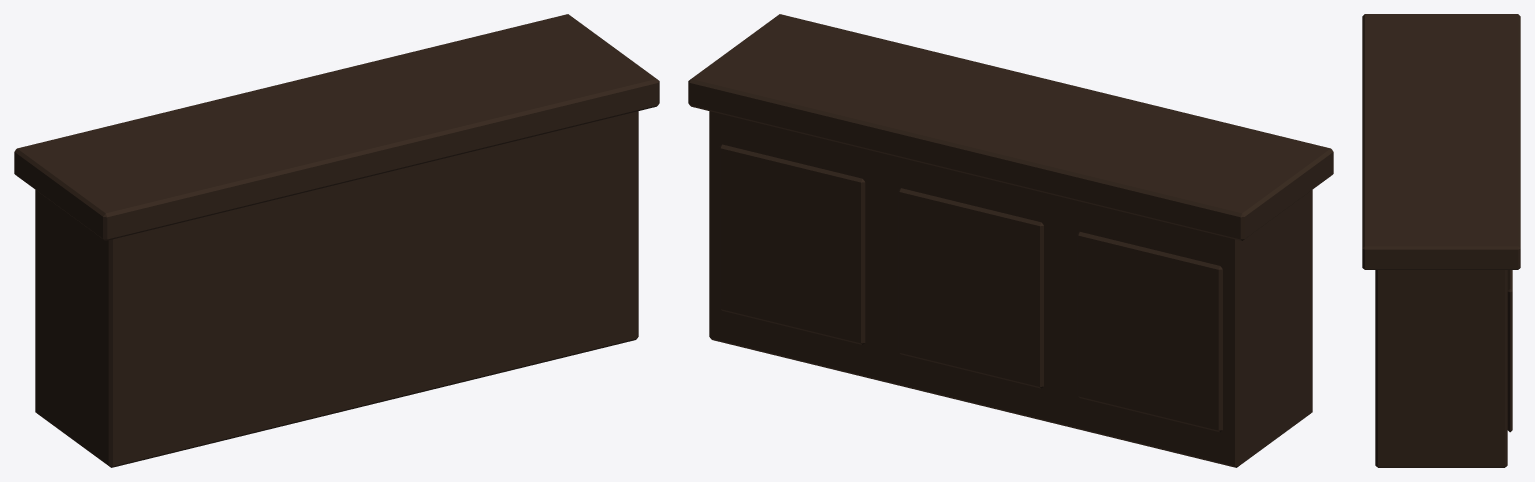
The model's file is counter.fbx.
The picture shows the model from 3 angles, left to right: view 1: azimuth 30°, elevation 25°; view 2: azimuth 150°, elevation 25°; view 3: azimuth 270°, elevation 25°; orthographic projection. The views are drawn at different scales.
Visible parts, largest first — view 1: counter; view 2: counter; view 3: counter.
Part boxes in pixels (x1=…): counter: x1=14, y1=14, x2=659, y2=467; counter: x1=688, y1=14, x2=1333, y2=467; counter: x1=1362, y1=14, x2=1520, y2=467.
Bounding box in the file's own units: 840 × 380 × 240.
